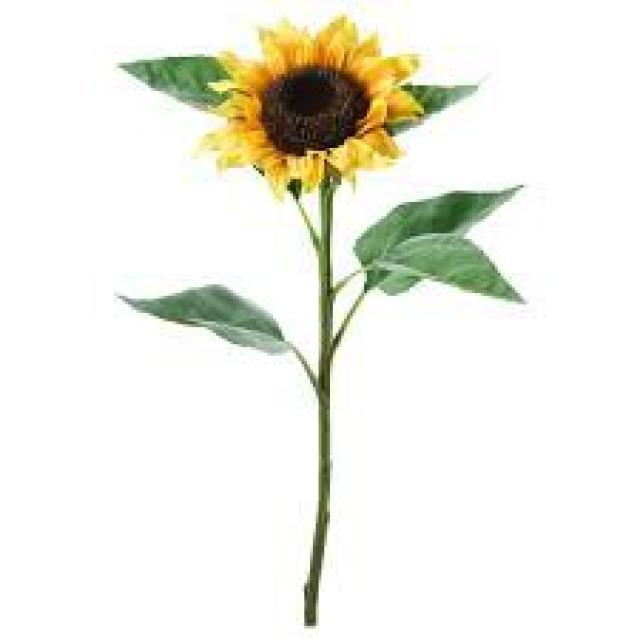sunflower: (196, 11, 424, 199)
